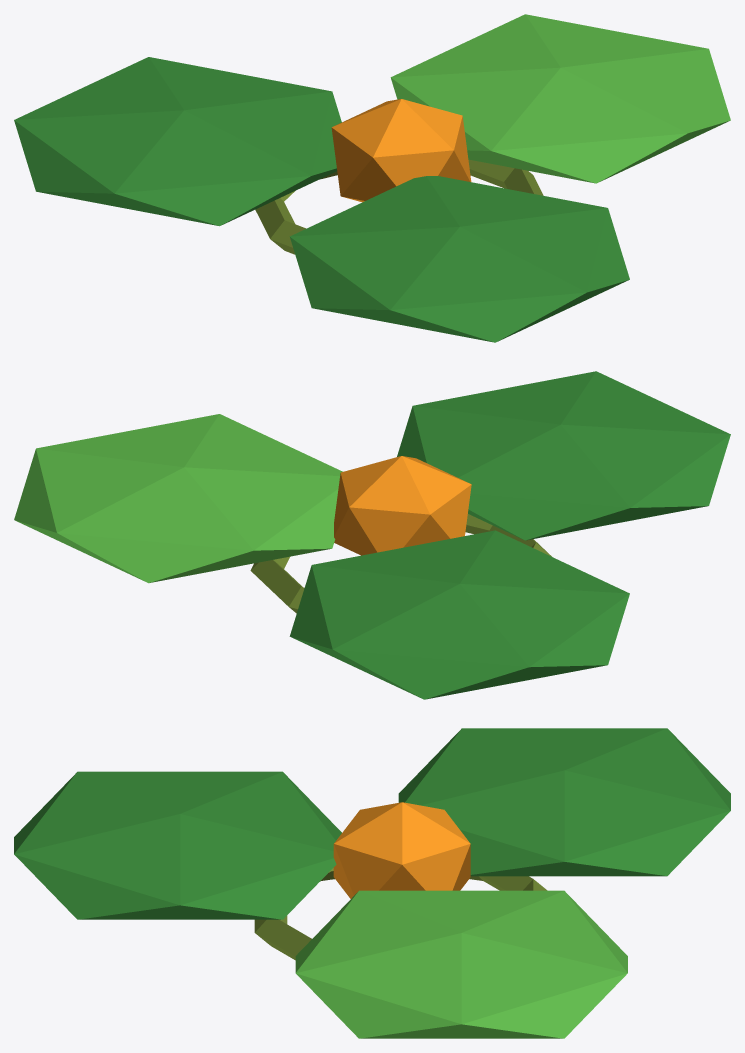
Rendered from crop_pumpkin_2.glb.
The picture shows the model from 3 angles, top to bottom: view 1: azimuth 30°, elevation 25°; view 2: azimuth 150°, elevation 25°; view 3: azimuth 270°, elevation 25°; orthographic projection. The views are drawn at different scales.
Parts seen in each view (by area): view 1: crop_pumpkin_2; view 2: crop_pumpkin_2; view 3: crop_pumpkin_2.
Boxes of the visible parts, left/top/right/bottom form: crop_pumpkin_2: left=14, top=14, right=730, bottom=342; crop_pumpkin_2: left=14, top=371, right=730, bottom=699; crop_pumpkin_2: left=14, top=728, right=730, bottom=1038.
Size of the model in its own units: 0.8303 by 0.1573 by 0.811.
